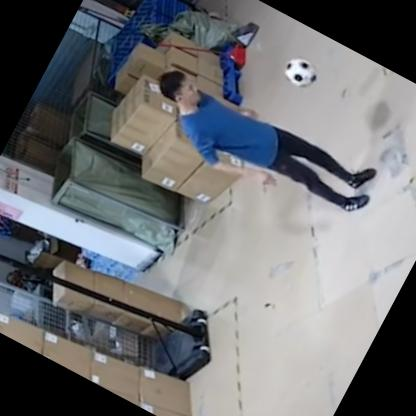Human Body: (129, 51, 388, 242)
